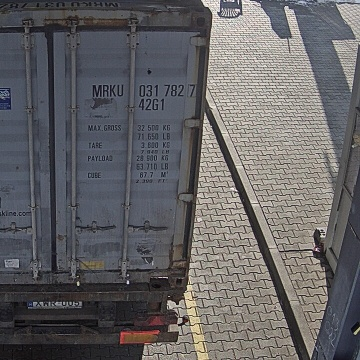serial_id: (92, 84, 196, 97)
